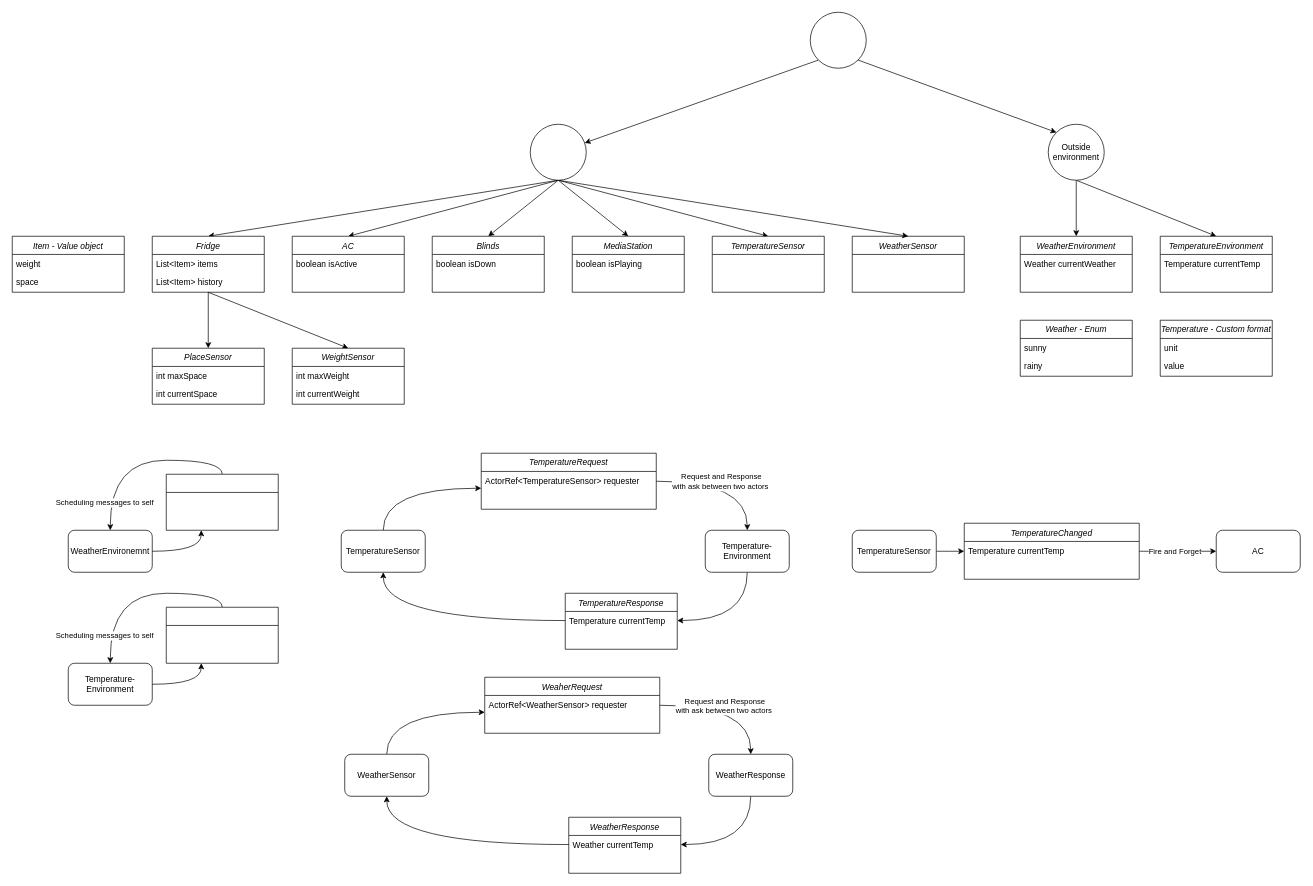
This 1313x886 diagram has some shape labels left out. Each missing label, with the centre of its shape:
changeTemperature: (x=222, y=635)
changeWeather: (x=222, y=502)
Context Root: (x=838, y=40)
Inside environment: (x=558, y=152)
